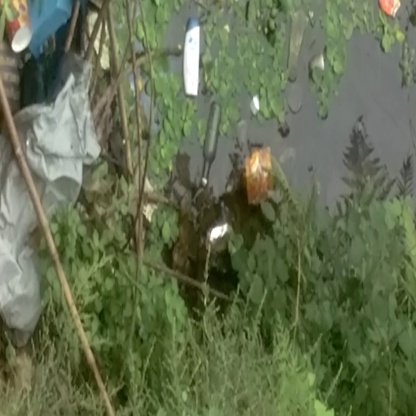bottle: (197, 101, 228, 185), (178, 14, 207, 100)
